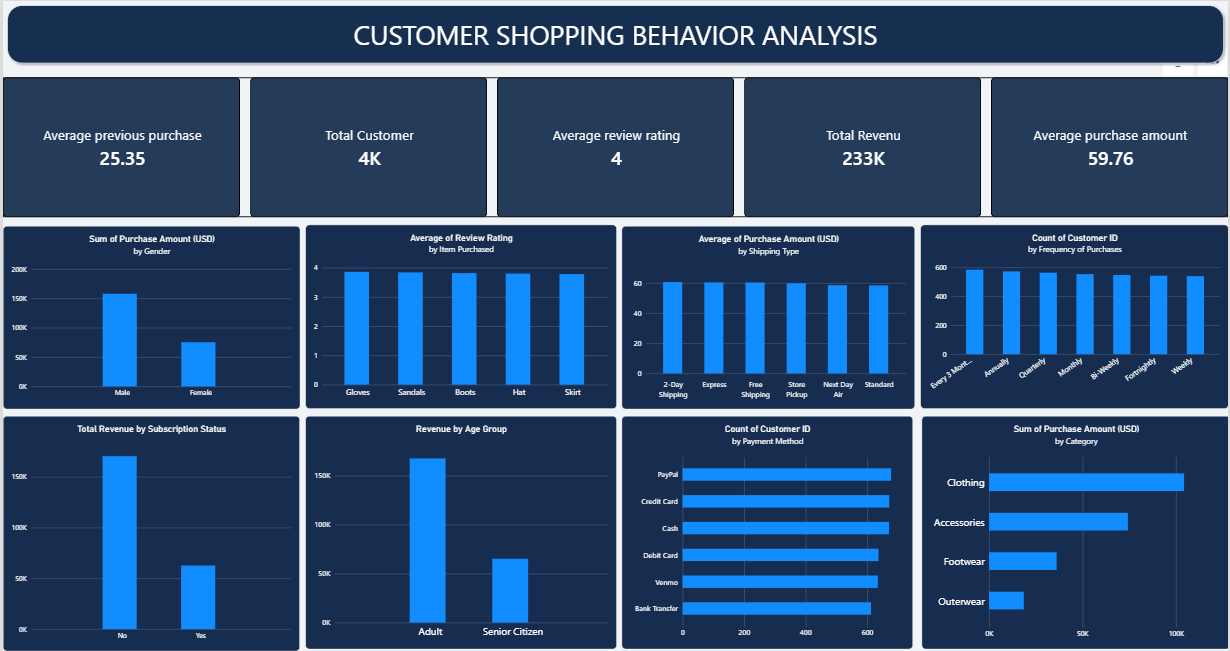

The dashboard page shown, as its layout file describes it:
{"tool":"powerbi","page":{"name":"Page 1","canvas":[2450,1300],"ordinal":0},"visuals":[{"type":"cardVisual","fields":{"Data":["customer_shopping_behavior.Average previous purchase","customer_shopping_behavior.Total Customer","customer_shopping_behavior.Average review rating","customer_shopping_behavior.Total Revenu","customer_shopping_behavior.Average purchase amount"]},"box":[0,152.1,2450,280],"z":0},{"type":"clusteredColumnChart","fields":{"Category":["customer_shopping_behavior.Gender"],"Y":["Sum(customer_shopping_behavior.Purchase Amount (USD))"]},"box":[0,450,594,366],"z":1000},{"type":"clusteredColumnChart","fields":{"Category":["customer_shopping_behavior.Item Purchased"],"Y":["Avg(customer_shopping_behavior.Review Rating)"]},"box":[604,448,622,368],"z":2000},{"type":"clusteredColumnChart","title":"Total Revenue by Subscription Status","fields":{"Category":["customer_shopping_behavior.Subscription Status"],"Y":["Avg(customer_shopping_behavior.Purchase Amount (USD))"]},"box":[0,830,593.3,470],"z":3000},{"type":"clusteredColumnChart","fields":{"Category":["customer_shopping_behavior.Shipping Type"],"Y":["Avg(customer_shopping_behavior.Purchase Amount (USD))"]},"box":[1238,450,586,366],"z":5000},{"type":"columnChart","title":"Revenue by Age Group","fields":{"Category":["customer_shopping_behavior.Age_Group"],"Y":["Sum(customer_shopping_behavior.Purchase Amount (USD))"]},"box":[604,830,622,466],"z":6000},{"type":"clusteredBarChart","fields":{"Category":["customer_shopping_behavior.Payment Method"],"Y":["CountNonNull(customer_shopping_behavior.Customer ID)"]},"box":[1238,830,582,466],"z":7000},{"type":"clusteredBarChart","fields":{"Category":["customer_shopping_behavior.Category"],"Y":["Sum(customer_shopping_behavior.Purchase Amount (USD))"]},"box":[1836.7,830,616.7,466.7],"z":10000},{"type":"clusteredColumnChart","fields":{"Category":["customer_shopping_behavior.Frequency of Purchases"],"Y":["CountNonNull(customer_shopping_behavior.Customer ID)"]},"box":[1834,448,616,368],"z":12000},{"type":"shape","box":[0,0,2450,133.3],"z":13000}]}

Visuals, with their boxes in screenshot pixels (x1, y1, x2, y2), scaled from the page's 2450x1300 canvas onto the 1230x651 screenshot:
cardVisual - customer_shopping_behavior.Average previous purchase x customer_shopping_behavior.Total Customer: bbox=(0, 76, 1229, 216)
clusteredColumnChart - customer_shopping_behavior.Gender x Sum(customer_shopping_behavior.Purchase Amount (USD)): bbox=(0, 225, 298, 409)
clusteredColumnChart - customer_shopping_behavior.Item Purchased x Avg(customer_shopping_behavior.Review Rating): bbox=(303, 224, 616, 409)
"Total Revenue by Subscription Status" clusteredColumnChart: bbox=(0, 416, 298, 650)
clusteredColumnChart - customer_shopping_behavior.Shipping Type x Avg(customer_shopping_behavior.Purchase Amount (USD)): bbox=(622, 225, 916, 409)
"Revenue by Age Group" columnChart: bbox=(303, 416, 616, 649)
clusteredBarChart - customer_shopping_behavior.Payment Method x CountNonNull(customer_shopping_behavior.Customer ID): bbox=(622, 416, 914, 649)
clusteredBarChart - customer_shopping_behavior.Category x Sum(customer_shopping_behavior.Purchase Amount (USD)): bbox=(922, 416, 1229, 649)
clusteredColumnChart - customer_shopping_behavior.Frequency of Purchases x CountNonNull(customer_shopping_behavior.Customer ID): bbox=(921, 224, 1229, 409)
shape: bbox=(0, 0, 1229, 67)
